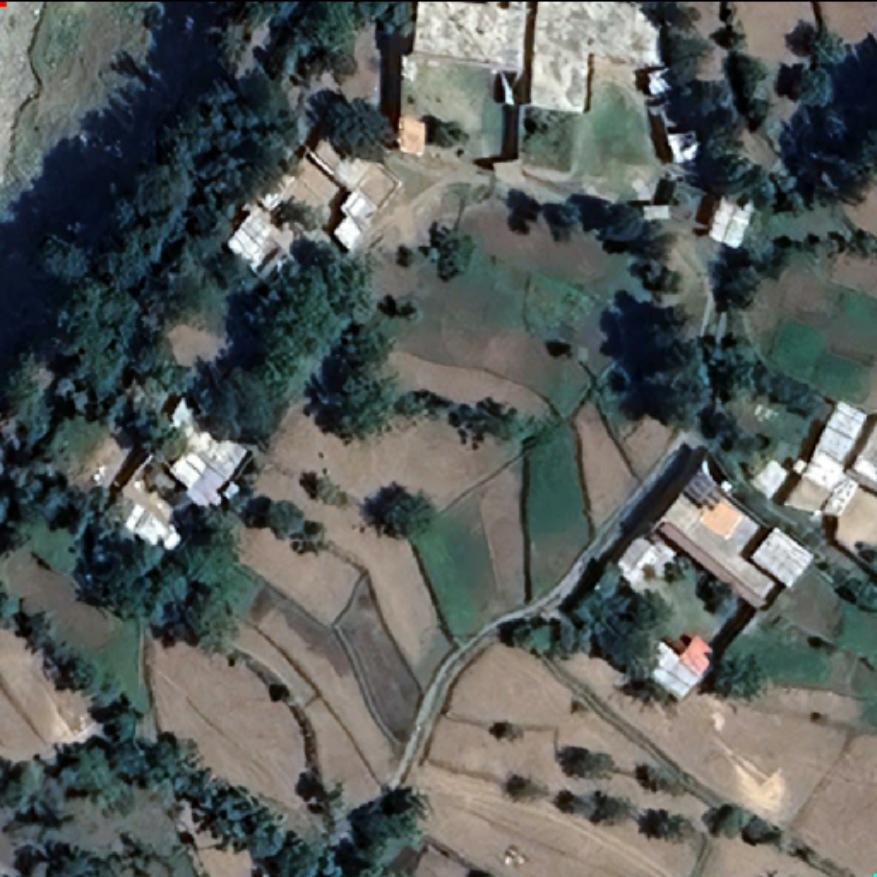Solarpanel: (685, 471, 723, 510)
